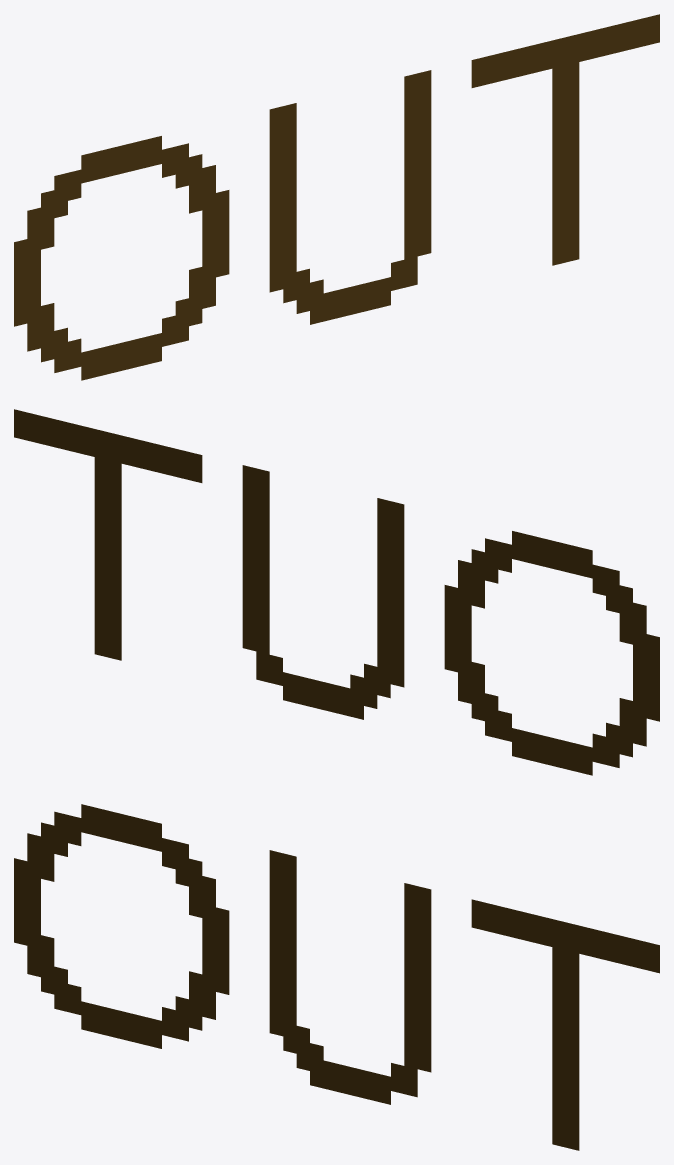
Rendered from result_out.obj.
3 renders of one model, top to bottom at view 1: azimuth 30°, elevation 25°; view 2: azimuth 150°, elevation 25°; view 3: azimuth 330°, elevation 25°, orthographic.
Parts seen in each view (by area): view 1: board_text; view 2: board_text; view 3: board_text.
Part boxes in pixels (x1=…): board_text: x1=14, y1=14, x2=659, y2=380; board_text: x1=14, y1=409, x2=659, y2=775; board_text: x1=14, y1=804, x2=659, y2=1150.
Bounding box in the file's own units: 2.82 × 0.94 × 0.
